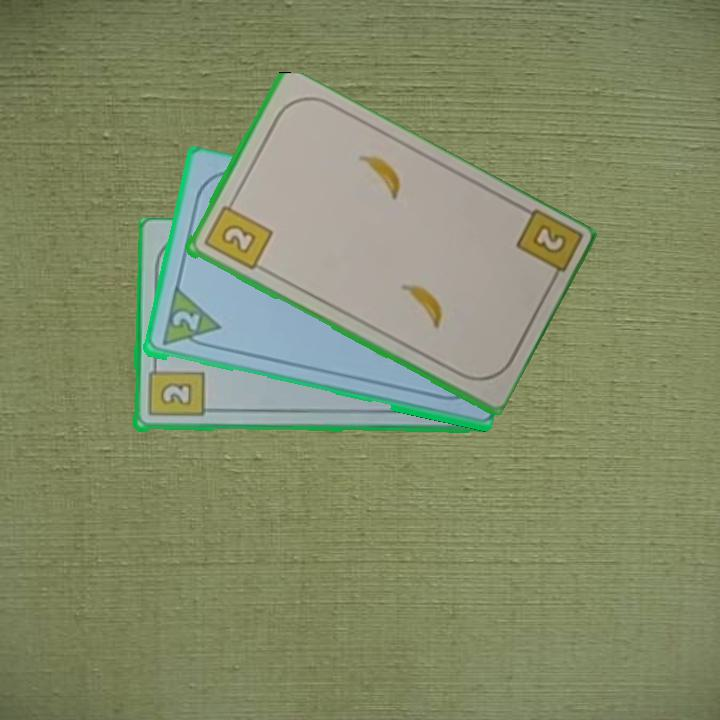2b: (200, 195, 275, 274), (511, 206, 582, 289), (144, 358, 205, 420)
2p: (168, 307, 203, 336)
